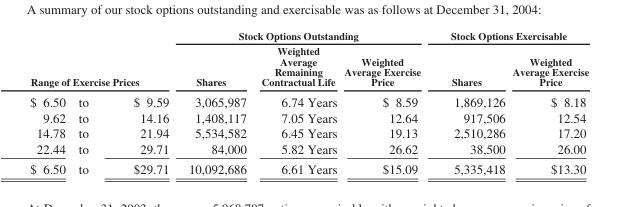table: (29, 29, 588, 176)
table column: (340, 29, 435, 176), (253, 29, 340, 176), (508, 29, 588, 176), (178, 29, 253, 176), (435, 29, 508, 176), (110, 29, 178, 176), (29, 29, 71, 176), (71, 29, 110, 176)
table column header: (29, 29, 588, 90)
table row: (29, 42, 588, 90), (29, 90, 588, 109), (29, 140, 588, 158), (29, 158, 588, 176), (29, 124, 588, 140), (29, 109, 588, 124), (29, 29, 588, 42)
table spanning cell: (29, 29, 178, 90), (178, 29, 435, 42), (435, 29, 588, 42)
